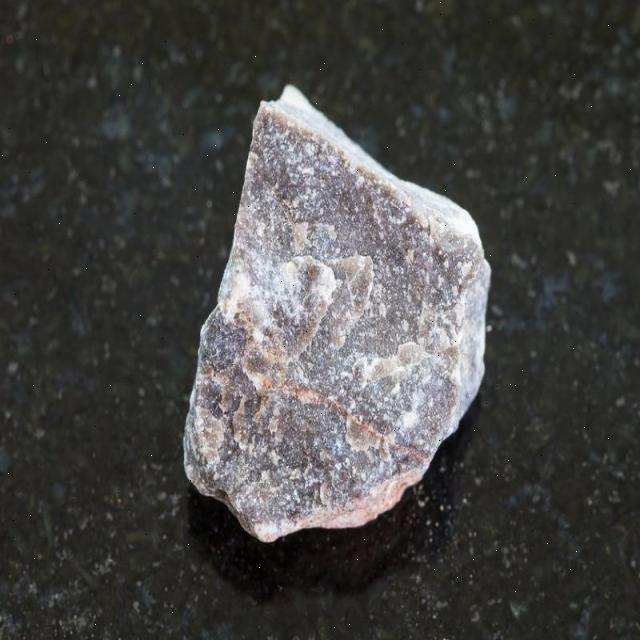Sedimentary: (160, 79, 490, 564)
